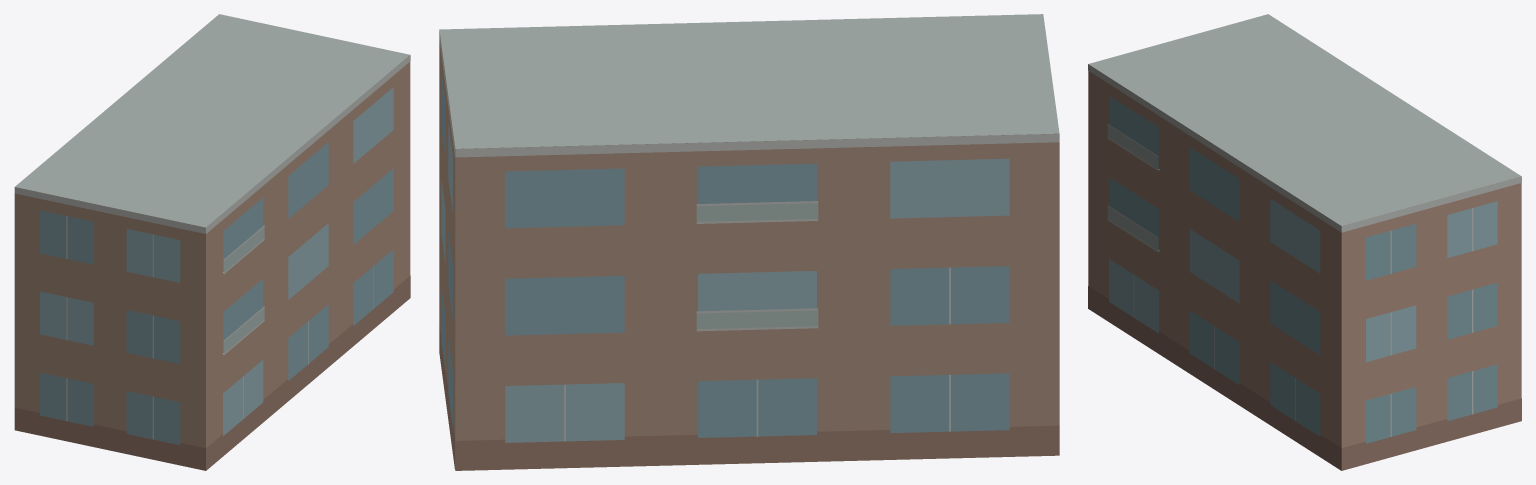
Rendered from survey-upis-32945457.glb.
The picture shows the model from 3 angles, left to right: view 1: azimuth 30°, elevation 25°; view 2: azimuth 150°, elevation 25°; view 3: azimuth 270°, elevation 25°; orthographic projection. The views are drawn at different scales.
Visible parts, largest first — view 1: survey-upis-32945457.tmp; view 2: survey-upis-32945457.tmp; view 3: survey-upis-32945457.tmp.
Boxes of the visible parts, <box> form: survey-upis-32945457.tmp: <box>14,14,410,470</box>; survey-upis-32945457.tmp: <box>439,14,1059,470</box>; survey-upis-32945457.tmp: <box>1088,14,1521,470</box>.
Size of the model in its own units: 17.02 by 9.15 by 14.7.
